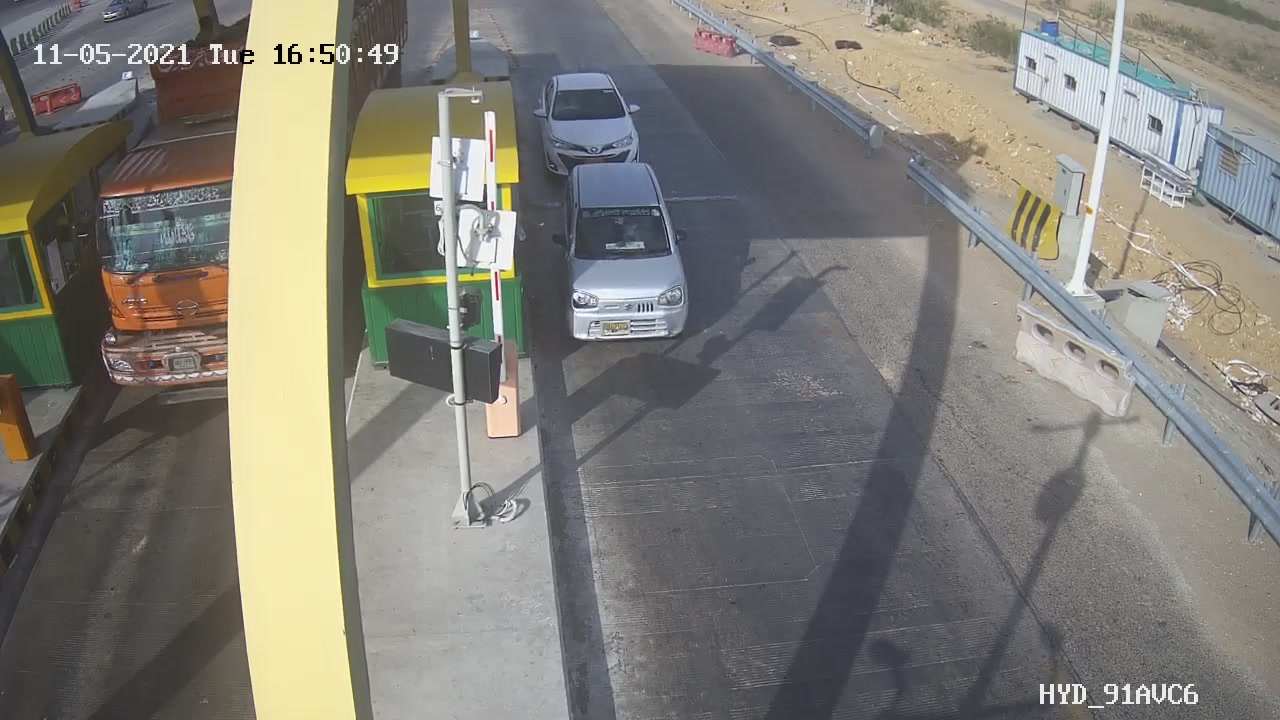F1: (539, 151, 705, 356), (522, 61, 656, 190)
